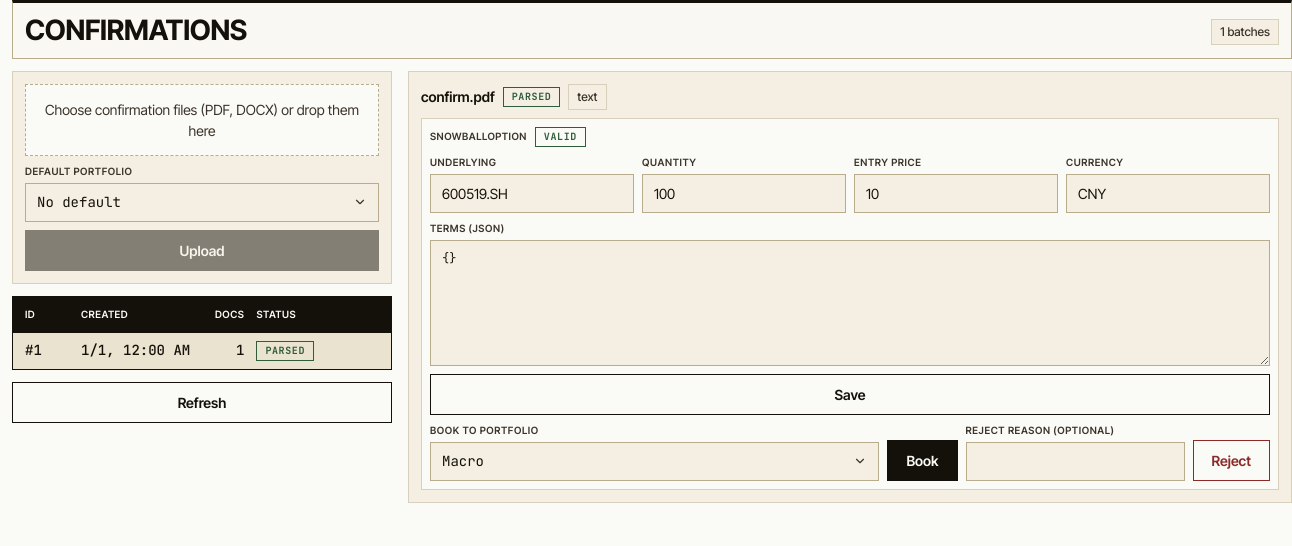
Test case: ConfirmationsLive — Save validation › saves valid edits and honestly omits an untouched-blank optional numeric field
Clear the field labelled "Entry price" at x=956, y=193, box [854, 174, 1058, 213]
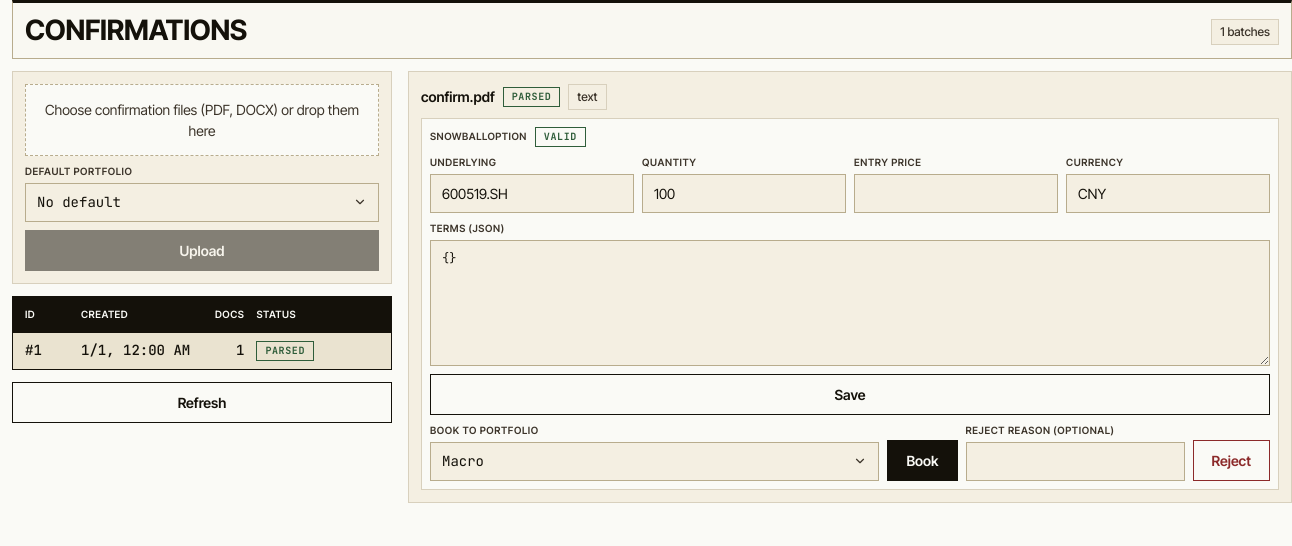
Click the button with aria-label "Save trade 10".
click(850, 394)  # box [430, 374, 1270, 415]
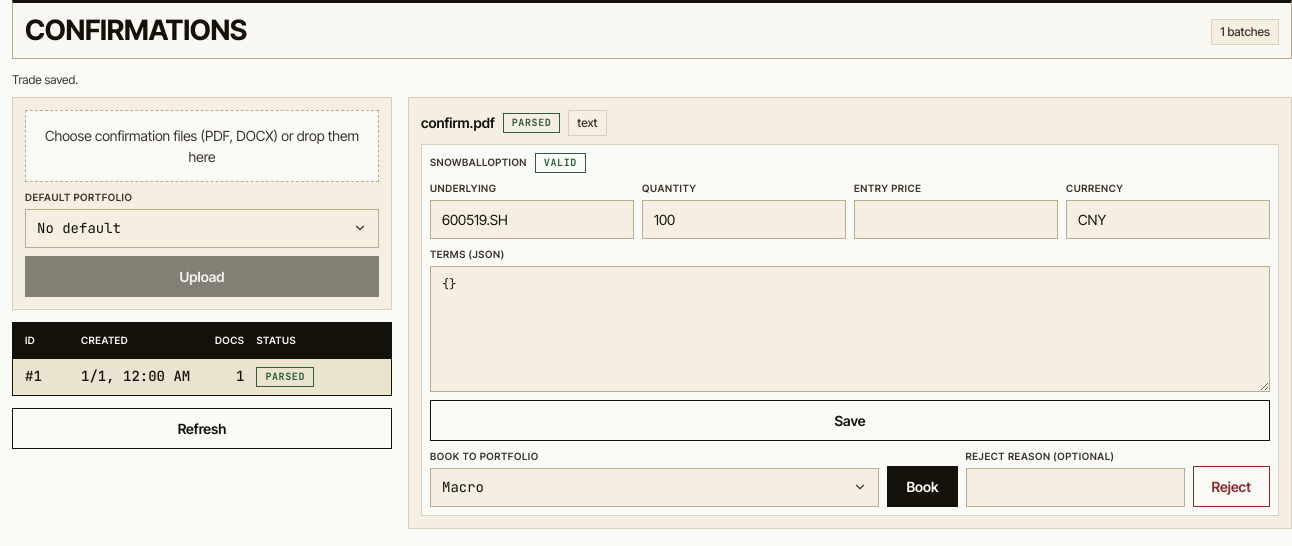
Expected: the text "Trade saved." is shown, [12, 72, 78, 87]
